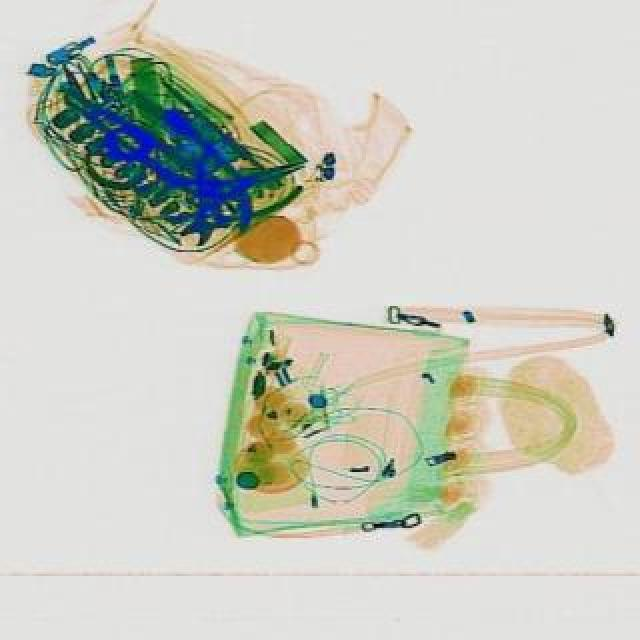wrench: (154, 136, 306, 276), (158, 146, 316, 230)
